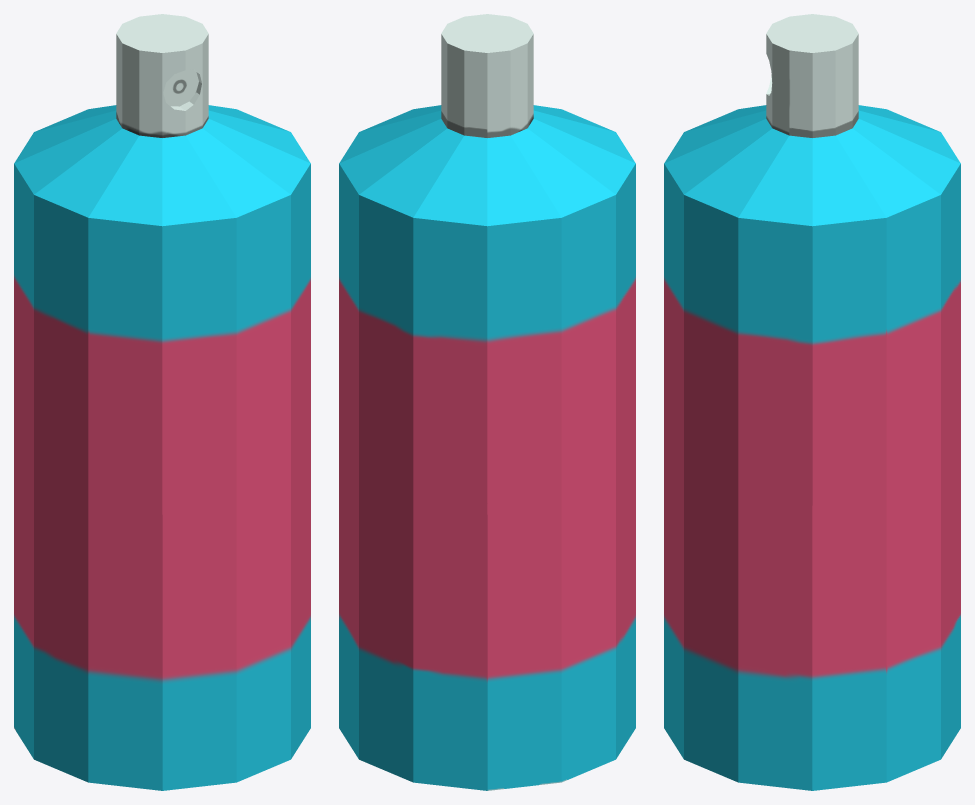
File: Spray.fbx
3 views of the same model, side by side, from view 1: azimuth 30°, elevation 25°; view 2: azimuth 150°, elevation 25°; view 3: azimuth 270°, elevation 25° (orthographic).
Visible parts, largest first — view 1: Spray; view 2: Spray; view 3: Spray.
Part boxes in pixels (<box>): Spray: <box>14,14,310,790</box>; Spray: <box>339,14,635,790</box>; Spray: <box>664,14,960,790</box>.
Size of the model in its own units: 10 by 25.83 by 10.
